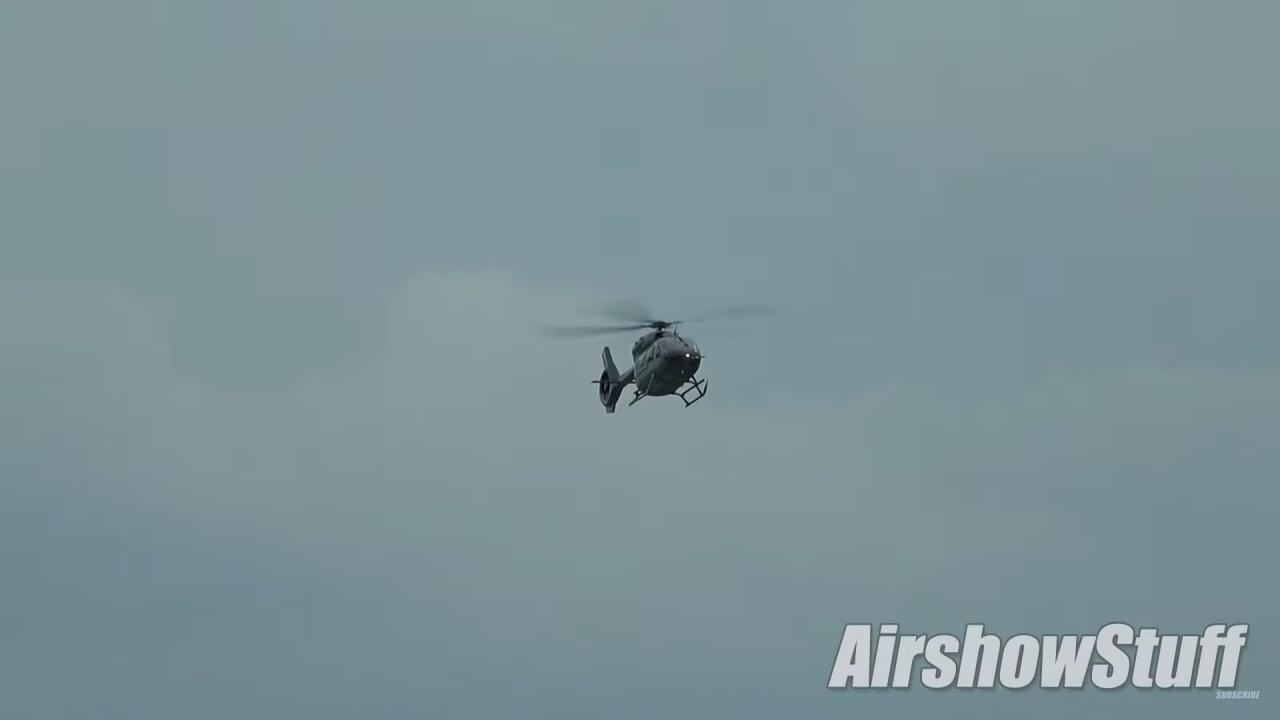Helicopter: (532, 283, 784, 424)
